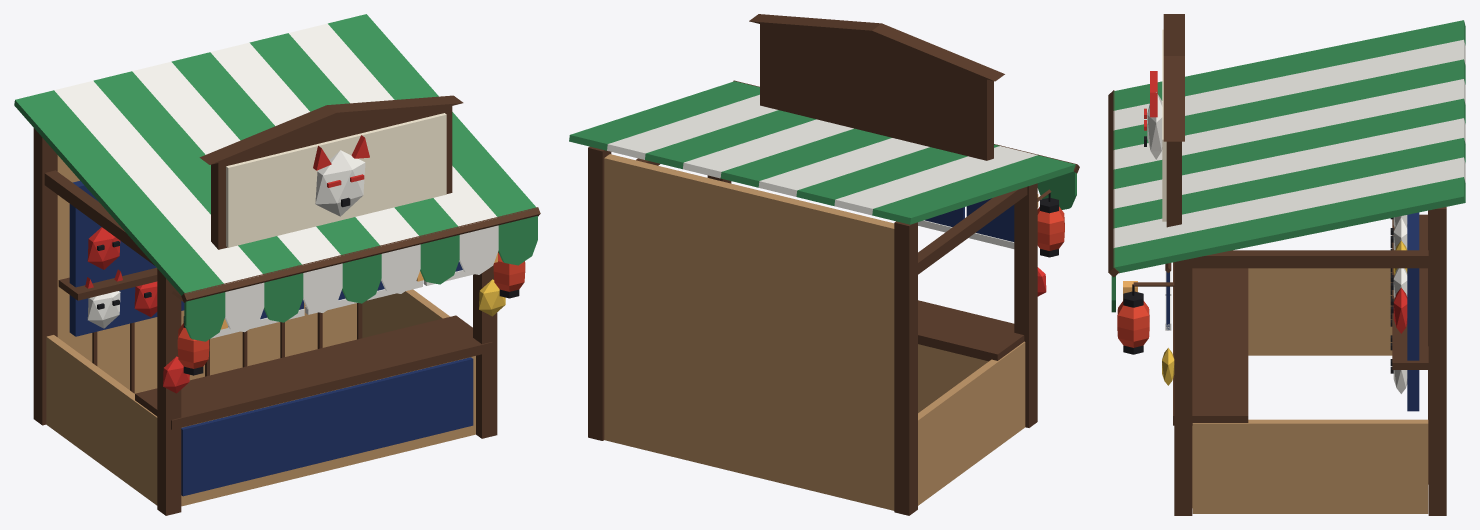
Rendered from stall-omen.glb.
3 renders of one model, left to right at view 1: azimuth 30°, elevation 25°; view 2: azimuth 150°, elevation 25°; view 3: azimuth 270°, elevation 25°, orthographic. The views are drawn at different scales.
Visible parts, largest first — view 1: StallOmen_Wood, StallOmen_AwningA, StallOmen_AwningB, StallOmen_WoodLight, StallOmen_Noren, StallOmen_Sign, StallOmen_Board, StallOmen_MaskR, StallOmen_MaskW, StallOmen_Lanterns, StallOmen_Hem, StallOmen_MaskY; view 2: StallOmen_WoodLight, StallOmen_Wood, StallOmen_AwningA, StallOmen_AwningB, StallOmen_Noren, StallOmen_Lanterns; view 3: StallOmen_AwningA, StallOmen_WoodLight, StallOmen_Wood, StallOmen_AwningB, StallOmen_Board, StallOmen_MaskW, StallOmen_Lanterns, StallOmen_MaskR, StallOmen_Sign, StallOmen_MaskY, StallOmen_Caps, StallOmen_Marks.
Part boxes in pixels (<box>): StallOmen_Wood: <box>33,95,540,515</box>; StallOmen_AwningA: <box>14,14,537,341</box>; StallOmen_AwningB: <box>54,23,498,332</box>; StallOmen_WoodLight: <box>46,155,475,506</box>; StallOmen_Noren: <box>181,261,473,496</box>; StallOmen_Sign: <box>226,113,446,247</box>; StallOmen_Board: <box>69,181,184,336</box>; StallOmen_MaskR: <box>85,135,369,393</box>; StallOmen_MaskW: <box>87,150,365,328</box>; StallOmen_Lanterns: <box>177,252,525,368</box>; StallOmen_Hem: <box>211,270,473,338</box>; StallOmen_MaskY: <box>479,279,505,316</box>; StallOmen_WoodLight: <box>604,154,1025,510</box>; StallOmen_Wood: <box>588,14,1079,515</box>; StallOmen_AwningA: <box>569,81,1076,224</box>; StallOmen_AwningB: <box>607,94,1037,215</box>; StallOmen_Noren: <box>924,198,1014,241</box>; StallOmen_Lanterns: <box>1037,206,1064,250</box>; StallOmen_AwningA: <box>1111,20,1465,312</box>; StallOmen_WoodLight: <box>1192,268,1428,513</box>; StallOmen_Wood: <box>1108,14,1446,515</box>; StallOmen_AwningB: <box>1113,39,1465,247</box>; StallOmen_Board: <box>1407,212,1419,411</box>; StallOmen_MaskW: <box>1147,92,1407,393</box>; StallOmen_Lanterns: <box>1117,301,1149,347</box>; StallOmen_MaskR: <box>1144,71,1407,333</box>; StallOmen_Sign: <box>1162,29,1166,221</box>; StallOmen_MaskY: <box>1162,240,1407,385</box>; StallOmen_Caps: <box>1123,284,1143,354</box>; StallOmen_Marks: <box>1144,136,1393,373</box>.
Size of the model in its own units: 13.9 by 13.75 by 11.81.
